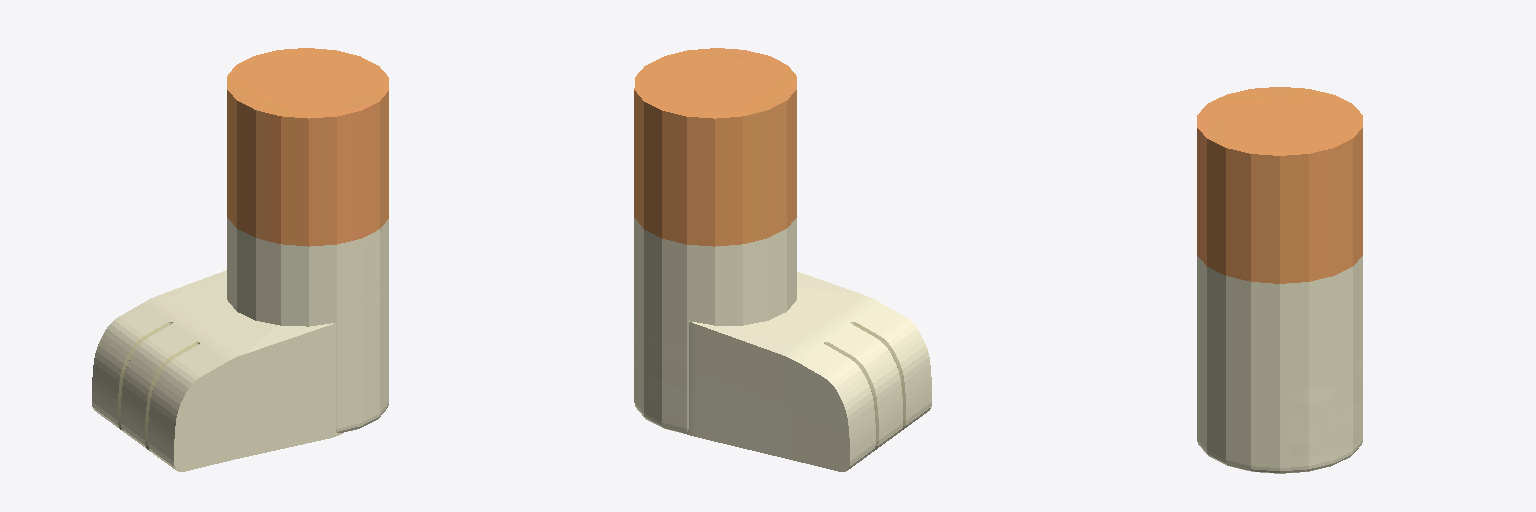
3 renders of one model, left to right at view 1: azimuth 30°, elevation 25°; view 2: azimuth 150°, elevation 25°; view 3: azimuth 270°, elevation 25°, orthographic.
Visible parts, largest first — view 1: Cylinder021; view 2: Cylinder021; view 3: Cylinder021.
Boxes of the visible parts, x1,y1,x2,y2 form: Cylinder021: [92, 48, 388, 471]; Cylinder021: [634, 48, 931, 471]; Cylinder021: [1197, 87, 1362, 473].
Size of the model in its own units: 13.12 by 16.3 by 7.66.
Materials: 1 (1 with a texture image).